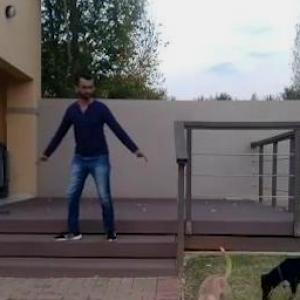land: (47, 74, 128, 254)
